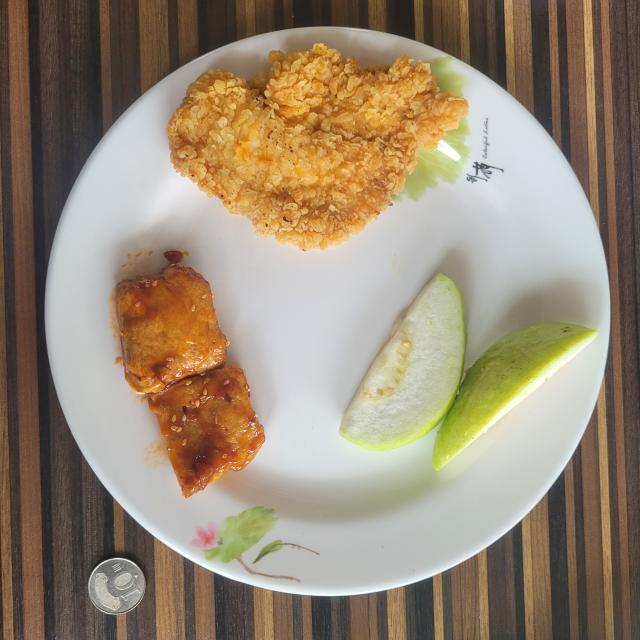coin: (88, 558, 145, 615)
creamy tofu: (116, 251, 265, 498)
fried chicken cutlet: (166, 44, 468, 250)
guava -sliced-: (340, 274, 599, 470)
